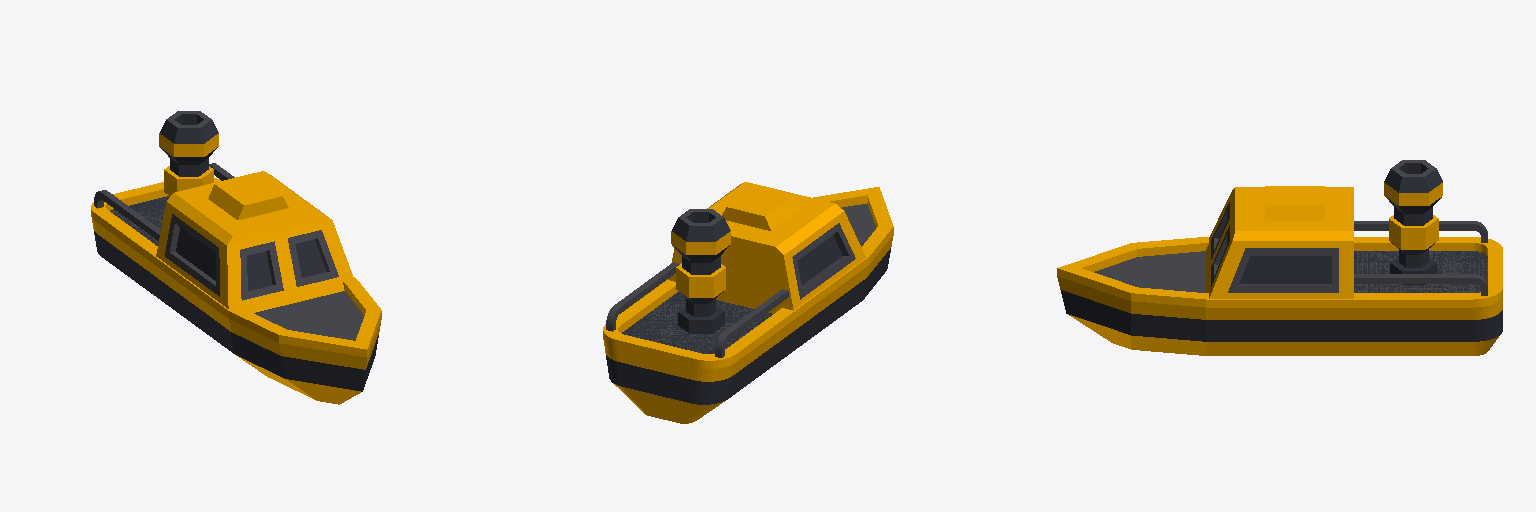
The model's file is Boat8.obj.
3 renders of one model, left to right at view 1: azimuth 30°, elevation 25°; view 2: azimuth 150°, elevation 25°; view 3: azimuth 270°, elevation 25°, orthographic.
Visible parts, largest first — view 1: diesel_cabin_front, hull_halfFront, rail_front, chimney_large, hull_halfBack, hull_half, rail_back, detail_fence_side, chimney_medium, rail; view 2: diesel_cabin_front, hull_halfBack, rail_back, chimney_large, chimney_medium, hull_half, detail_fence_side, rail_front, hull_halfFront, rail; view 3: diesel_cabin_front, hull_halfBack, hull_halfFront, hull_half, rail_back, rail_front, chimney_large, detail_fence_side, chimney_medium, rail.
Part boxes in pixels (x1,y1,x2,y2): diesel_cabin_front: (156,171,353,312); hull_halfFront: (229,291,381,404); rail_front: (229,280,381,357); chimney_large: (159,111,218,176); hull_halfBack: (92,196,169,299); hull_half: (155,265,234,353); rail_back: (91,178,220,264); detail_fence_side: (94,163,234,240); chimney_medium: (164,166,213,195); rail: (155,256,356,318); diesel_cabin_front: (668,182,865,313); hull_halfBack: (603,291,794,423); rail_back: (603,280,794,368); chimney_large: (671,209,730,274); chimney_medium: (676,263,725,333); hull_half: (789,265,868,353); detail_fence_side: (606,262,788,357); rail_front: (813,187,893,264); hull_halfFront: (841,203,893,299); rail: (667,256,868,318); diesel_cabin_front: (1206,186,1353,298); hull_halfBack: (1354,251,1502,355); hull_halfFront: (1057,251,1205,355); hull_half: (1206,308,1353,355); rail_back: (1354,237,1502,307); rail_front: (1057,237,1205,307); chimney_large: (1384,160,1442,225); detail_fence_side: (1354,221,1487,295); chimney_medium: (1389,215,1438,284); rail: (1206,237,1353,307).
Bounding box in the file's own units: 1 × 1.3 × 3.